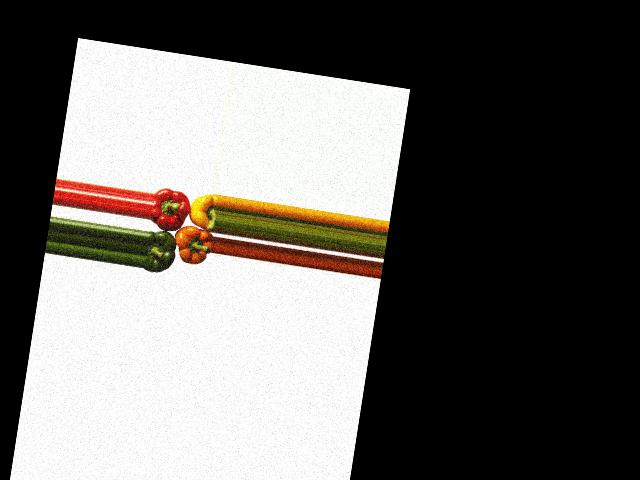bell_pepper: (184, 189, 220, 234)
